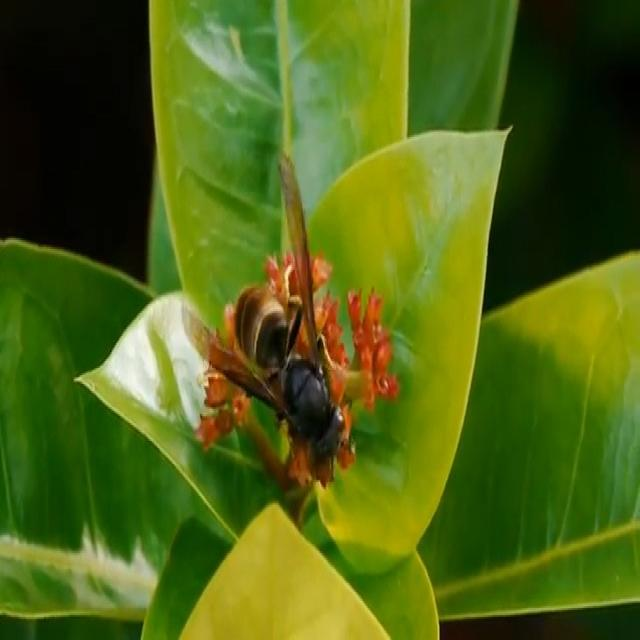Hornets: (184, 144, 350, 474)
